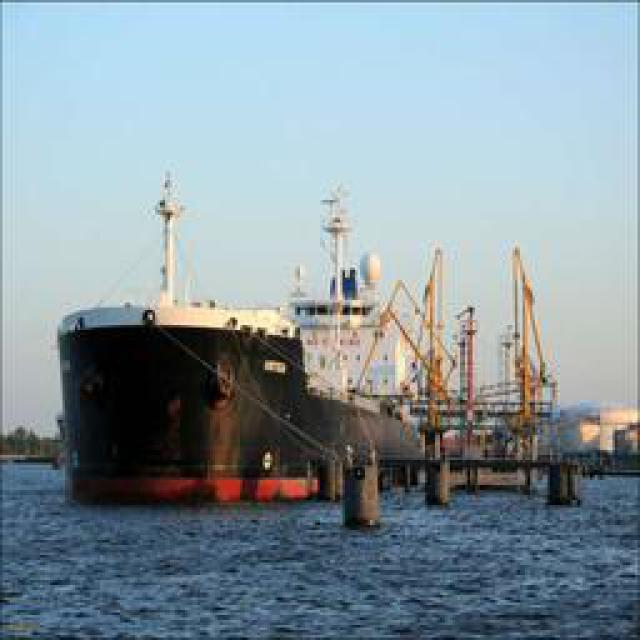Ship: (50, 152, 460, 512)
